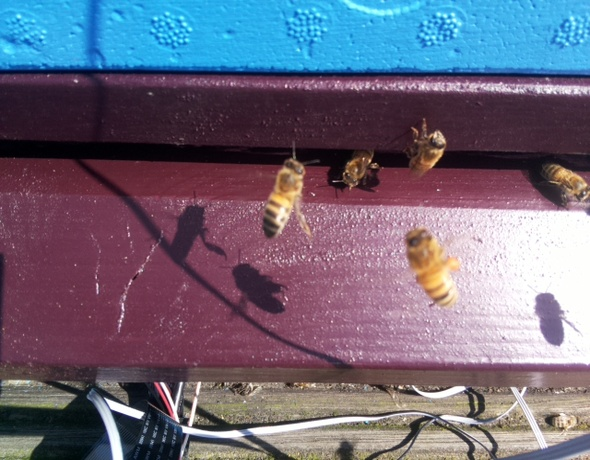no_pollen: (260, 156, 309, 241), (536, 161, 590, 206), (406, 123, 447, 177), (340, 143, 377, 193)
pollen: (401, 226, 463, 312)
